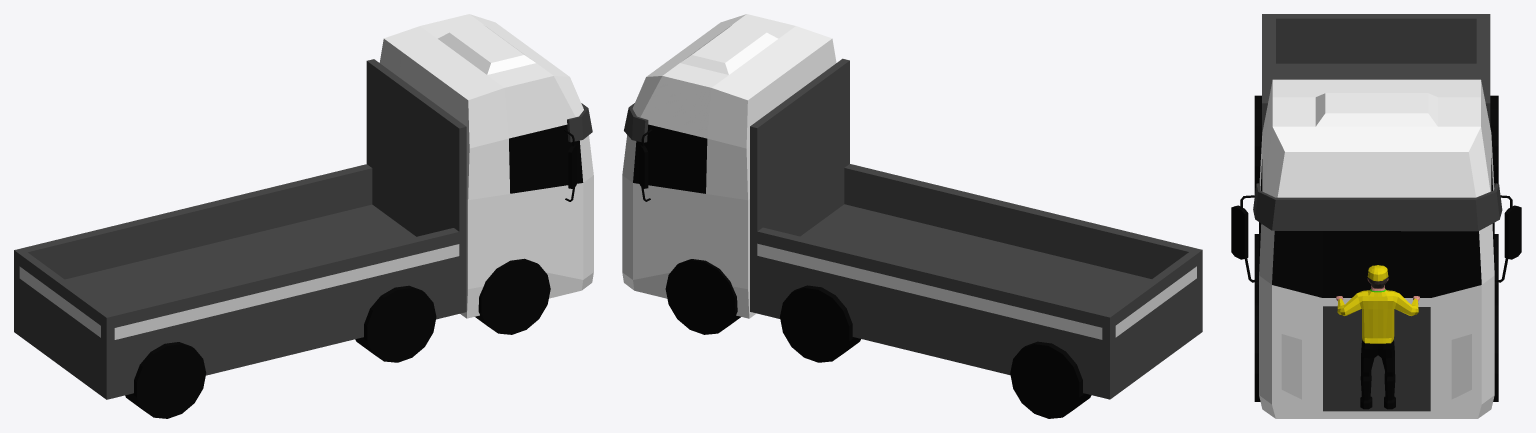
The model's file is caminhao.fbx.
The picture shows the model from 3 angles, left to right: view 1: azimuth 30°, elevation 25°; view 2: azimuth 150°, elevation 25°; view 3: azimuth 270°, elevation 25°; orthographic projection. The views are drawn at different scales.
Parts seen in each view (by area): view 1: cavalo, carroceria, pneu3, pneu6, pneu2, topo; view 2: cavalo, carroceria, pneu4, pneu5, pneu1, topo; view 3: carroceria, cavalo, topo, patriot, retrovisorR, retrovisorL, pneu6, pneu5, pneu2, pneu1, pneu3, pneu4 (+1 smaller).
Boxes of the visible parts, x1,y1,x2,y2 form: cavalo: (14,59,466,399); carroceria: (379,14,593,318); pneu3: (355,285,436,362); pneu6: (125,342,206,418); pneu2: (475,258,550,334); topo: (567,103,592,142); cavalo: (750,58,1202,399); carroceria: (622,14,836,318); pneu4: (780,285,860,362); pneu5: (1010,341,1091,418); pneu1: (665,259,740,334); topo: (624,103,648,142); carroceria: (1259,79,1494,418); cavalo: (1262,14,1490,135); topo: (1253,183,1502,231); patriot: (1336,277,1419,409); retrovisorR: (1504,205,1521,259); retrovisorL: (1231,205,1248,259); pneu6: (1254,95,1261,194); pneu5: (1490,95,1498,187); pneu2: (1254,303,1260,401); pneu1: (1493,303,1498,401); pneu3: (1254,234,1258,302); pneu4: (1494,234,1498,302).
Bounding box in the file's own units: 3954 × 1832 × 1572.
